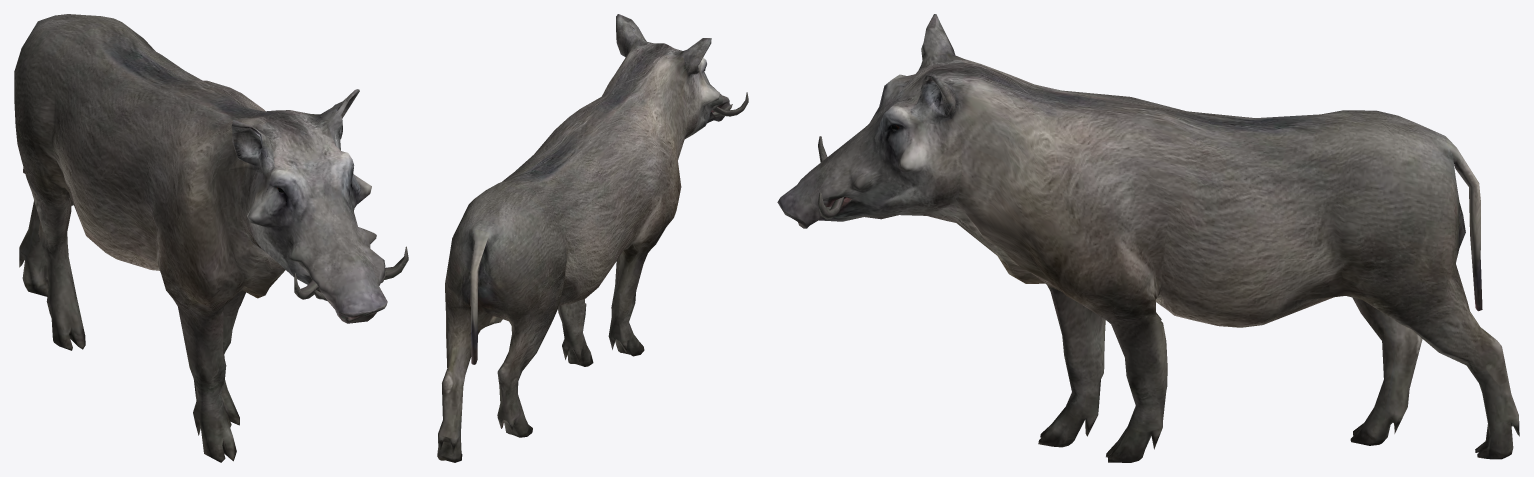
The model's file is warthog.glb.
3 views of the same model, side by side, from view 1: azimuth 30°, elevation 25°; view 2: azimuth 150°, elevation 25°; view 3: azimuth 270°, elevation 25° (orthographic). The views are drawn at different scales.
Parts seen in each view (by area): view 1: Tusks_LL_applied_clean_M_Warthog_0_M_Warthog_0, Tusks_LL_applied_clean_M_Warthog_Tusks_0_M_Warthog_Tusks_0; view 2: Tusks_LL_applied_clean_M_Warthog_0_M_Warthog_0; view 3: Tusks_LL_applied_clean_M_Warthog_0_M_Warthog_0.
Part boxes in pixels (x1=…): Tusks_LL_applied_clean_M_Warthog_0_M_Warthog_0: x1=14, y1=14, x2=387, y2=462; Tusks_LL_applied_clean_M_Warthog_Tusks_0_M_Warthog_Tusks_0: x1=294, y1=246, x2=408, y2=299; Tusks_LL_applied_clean_M_Warthog_0_M_Warthog_0: x1=437, y1=14, x2=730, y2=462; Tusks_LL_applied_clean_M_Warthog_0_M_Warthog_0: x1=777, y1=14, x2=1519, y2=462.
Size of the model in its own units: 0.4821 by 1.23 by 2.04.
2 materials, 2 textured.
